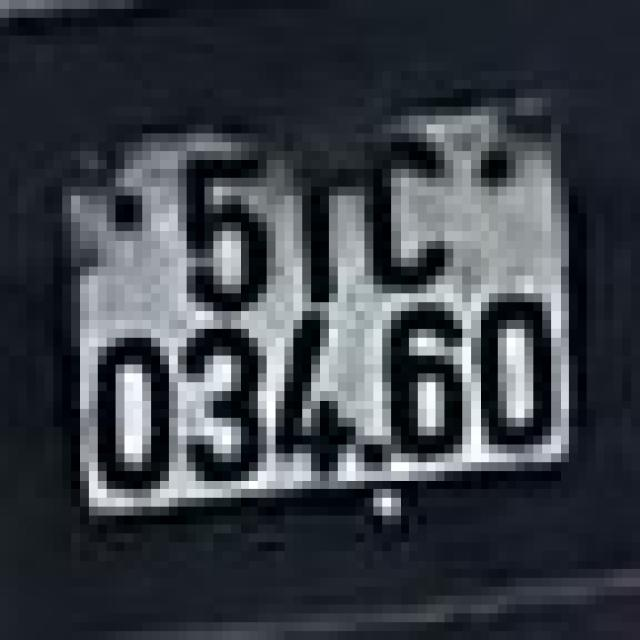0: (475, 293, 555, 450), (98, 335, 176, 496)
1: (288, 147, 343, 310)
3: (182, 326, 263, 483)
4: (274, 313, 350, 480)
5: (178, 147, 272, 313)
6: (384, 302, 468, 456)
C: (360, 130, 454, 296)
